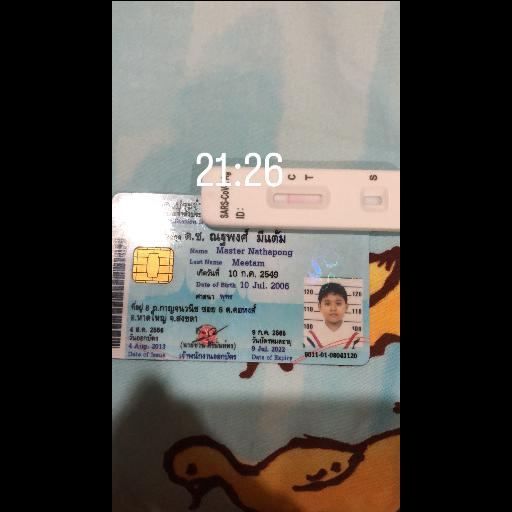Neg: (204, 168, 398, 228)
